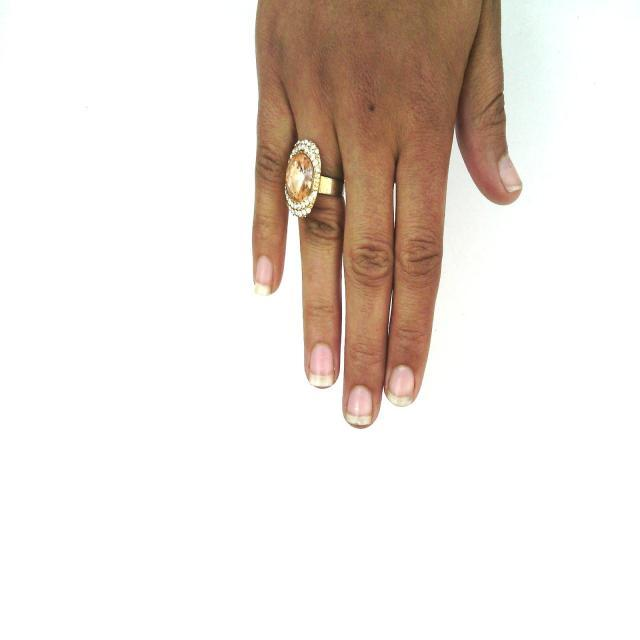Fingernail: (346, 386, 374, 427), (309, 343, 335, 387), (387, 366, 414, 405), (500, 153, 522, 192), (254, 256, 273, 296)
